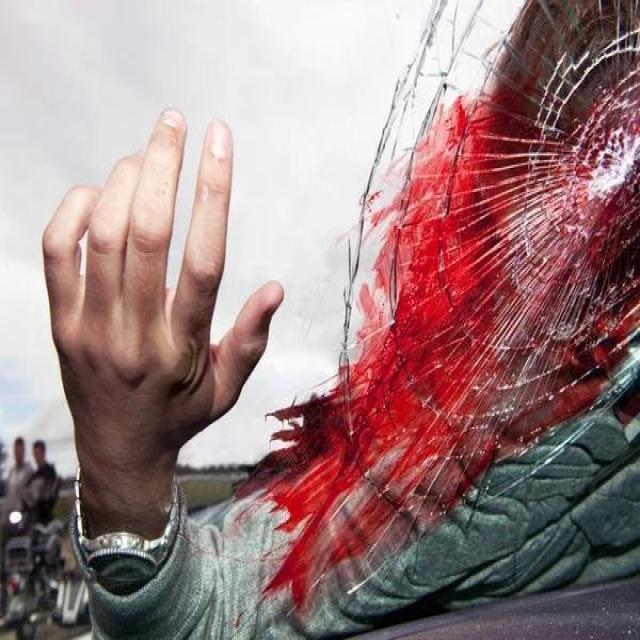flood: (262, 0, 640, 597)
